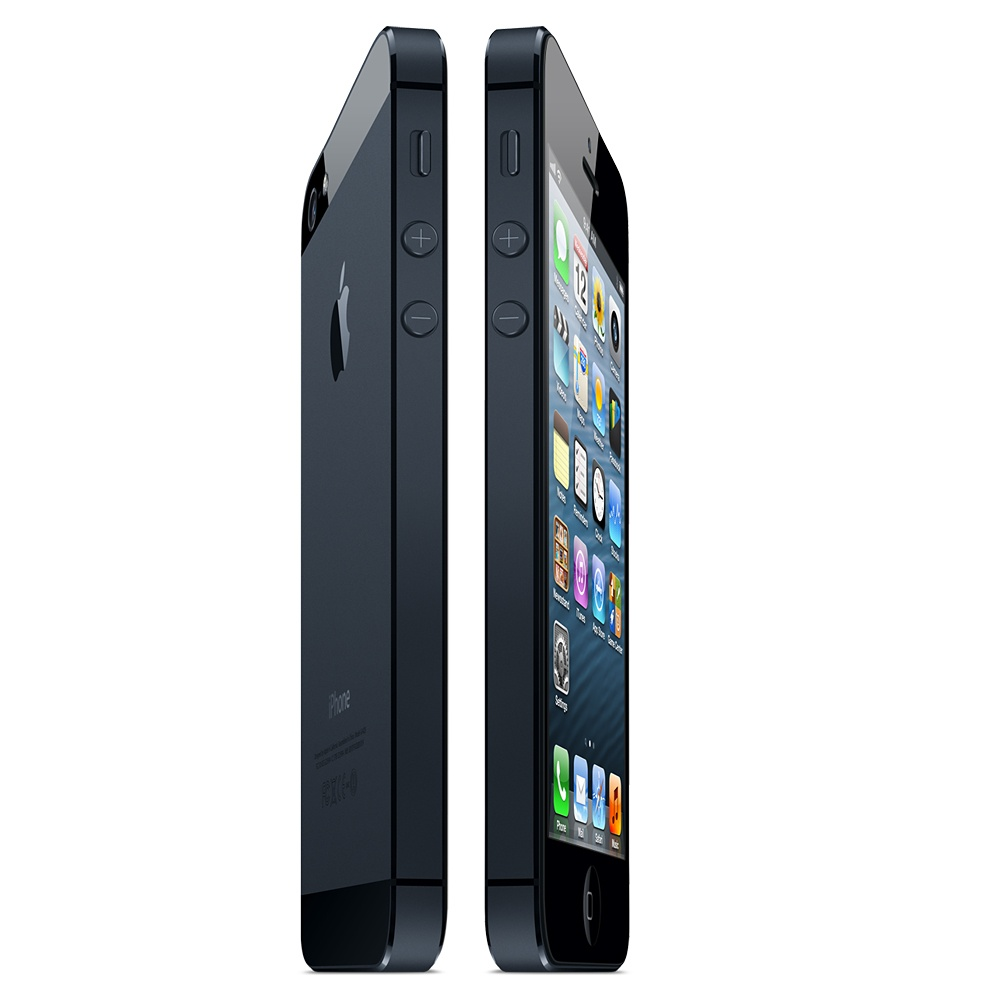Apple: (313, 257, 373, 393)
